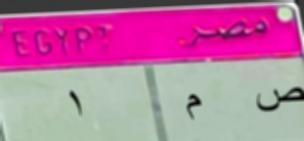1: (57, 86, 96, 121)
meem: (175, 88, 211, 129)
saad: (250, 78, 304, 120)
